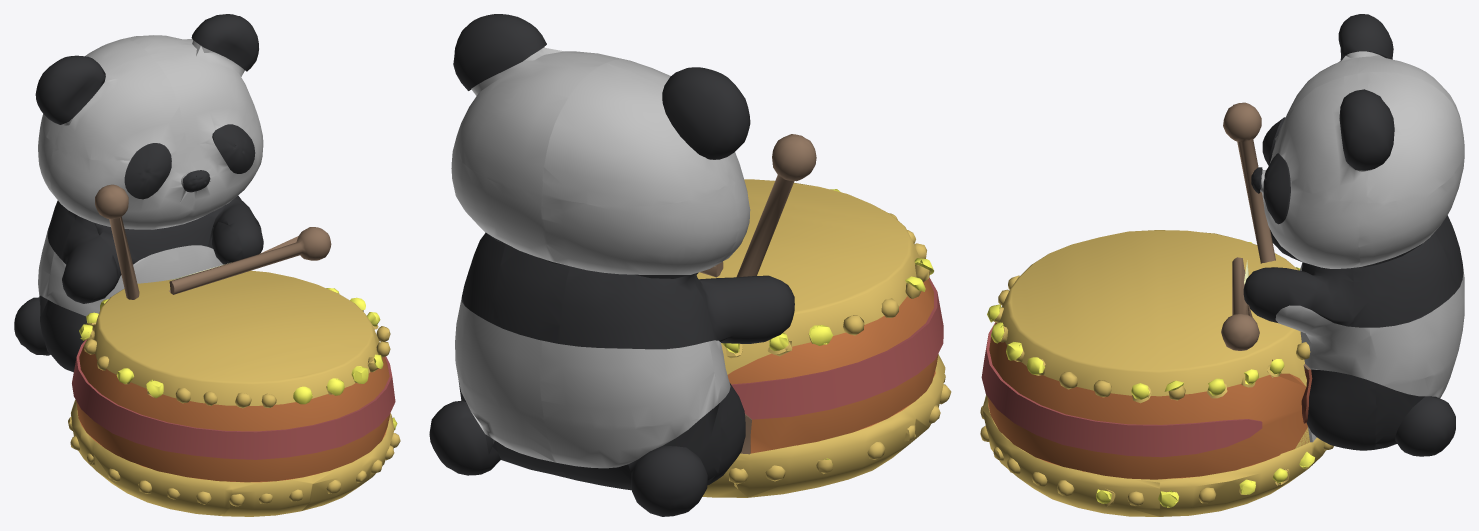
The model's file is PandaTaikoDrummer.fbx.
The picture shows the model from 3 angles, left to right: view 1: azimuth 30°, elevation 25°; view 2: azimuth 150°, elevation 25°; view 3: azimuth 270°, elevation 25°; orthographic projection. The views are drawn at different scales.
Parts seen in each view (by area): view 1: S_PandaTaikoDrummer, M_PandaTaikoDrummer, D_PandaTaikoDrummer_2; view 2: M_PandaTaikoDrummer, S_PandaTaikoDrummer; view 3: S_PandaTaikoDrummer, M_PandaTaikoDrummer.
Part boxes in pixels (x1,y1,x2,y2): S_PandaTaikoDrummer: (71, 124, 395, 516); M_PandaTaikoDrummer: (14, 14, 263, 372); D_PandaTaikoDrummer_2: (183, 170, 210, 192); M_PandaTaikoDrummer: (429, 14, 794, 516); S_PandaTaikoDrummer: (492, 134, 945, 497); S_PandaTaikoDrummer: (981, 102, 1316, 516); M_PandaTaikoDrummer: (1159, 14, 1464, 516).
Size of the model in its own units: 468 by 559 by 610.
